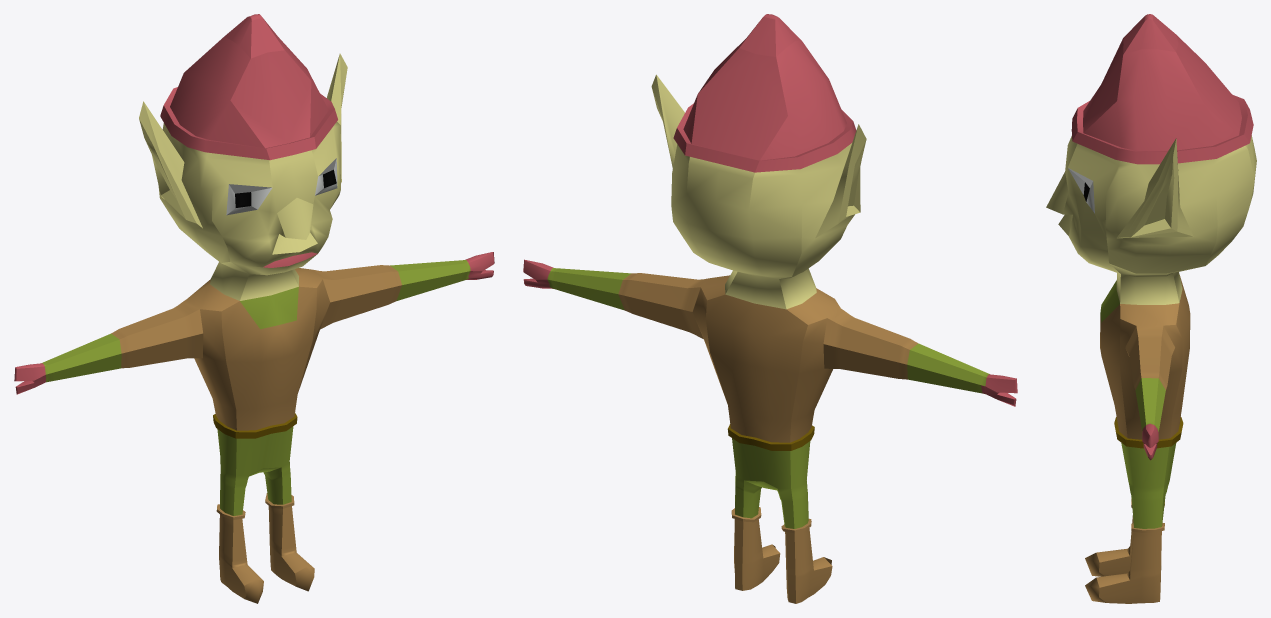
The model's file is lutin.fbx.
3 renders of one model, left to right at view 1: azimuth 30°, elevation 25°; view 2: azimuth 150°, elevation 25°; view 3: azimuth 270°, elevation 25°, orthographic. The views are drawn at different scales.
Parts seen in each view (by area): view 1: pCube6_lutin; view 2: pCube6_lutin; view 3: pCube6_lutin.
Part boxes in pixels (<box>): pCube6_lutin: <box>14,14,494,603</box>; pCube6_lutin: <box>523,14,1017,603</box>; pCube6_lutin: <box>1046,14,1256,603</box>.
Size of the model in its own units: 176 by 197 by 65.83.
